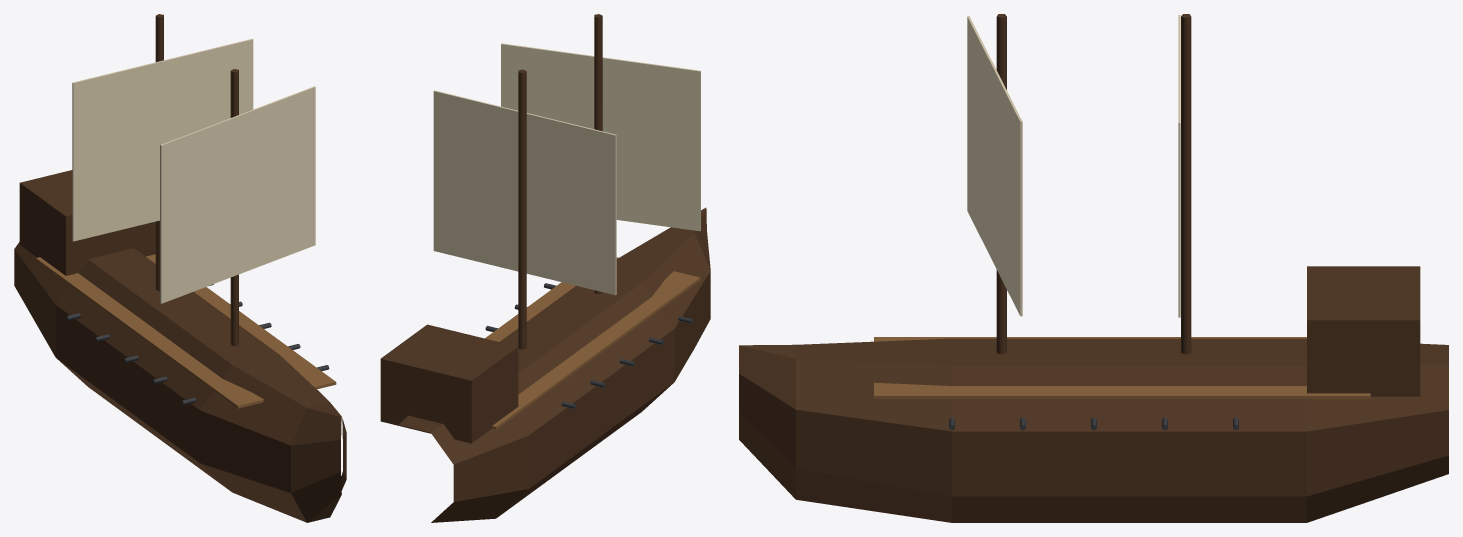
Rendered from veh_naval_warship_a03.glb.
3 renders of one model, left to right at view 1: azimuth 30°, elevation 25°; view 2: azimuth 150°, elevation 25°; view 3: azimuth 270°, elevation 25°, orthographic. The views are drawn at different scales.
Parts seen in each view (by area): view 1: body, sail_1, sail_0; view 2: body, sail_0, sail_1; view 3: body, sail_1, sail_0.
Part boxes in pixels (bbox=[...]): body: bbox=[14, 14, 346, 522]; sail_1: bbox=[160, 86, 315, 303]; sail_0: bbox=[72, 38, 253, 241]; body: bbox=[380, 14, 710, 522]; sail_0: bbox=[433, 90, 616, 295]; sail_1: bbox=[501, 43, 700, 231]; body: bbox=[739, 14, 1448, 522]; sail_1: bbox=[967, 16, 1022, 316]; sail_0: bbox=[1178, 15, 1180, 317].
Size of what is drawn, in the model's own units: 5.62 by 11.97 by 15.6.
